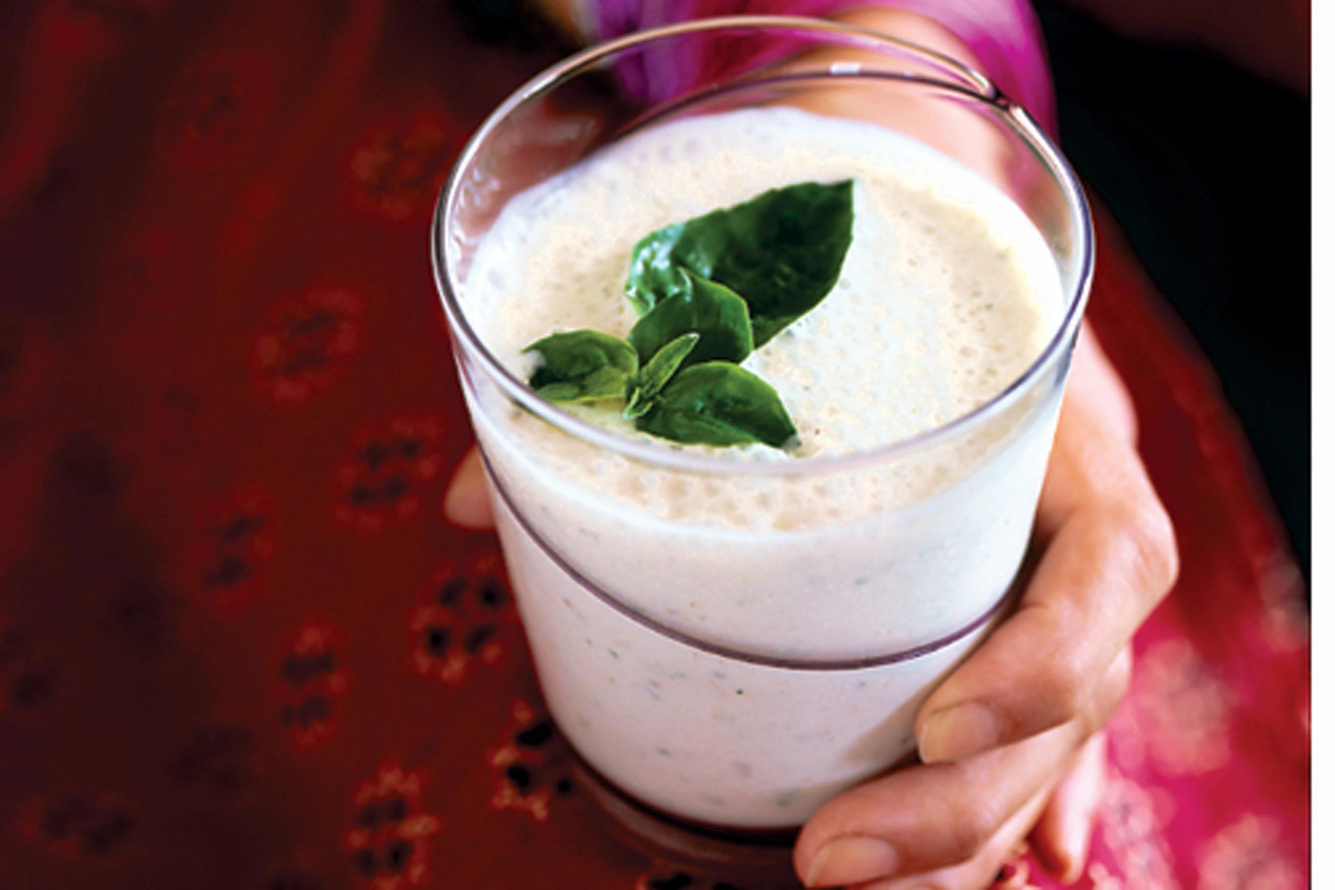Lassi: (462, 104, 1062, 826)
